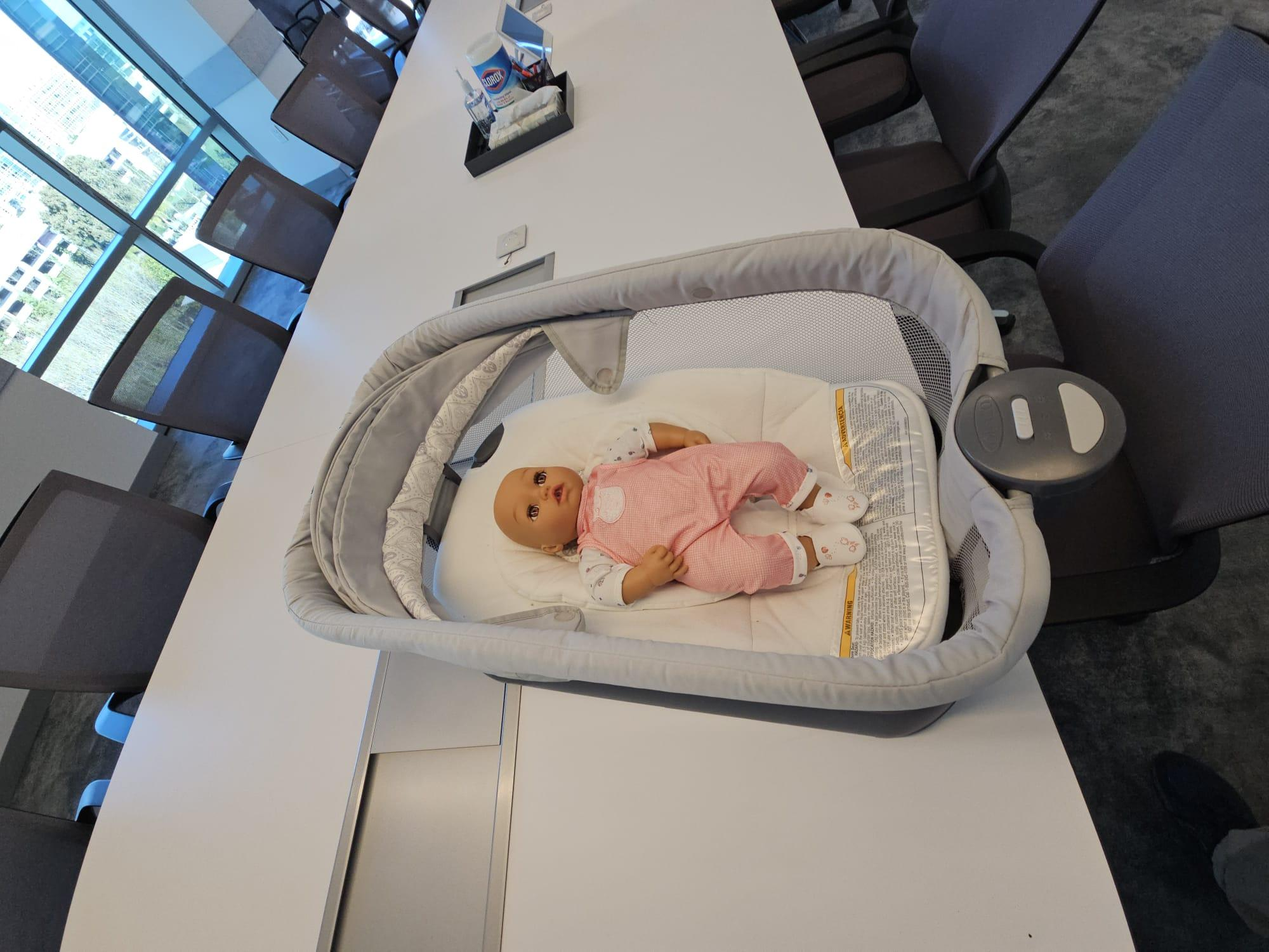baby: (484, 406, 888, 620)
